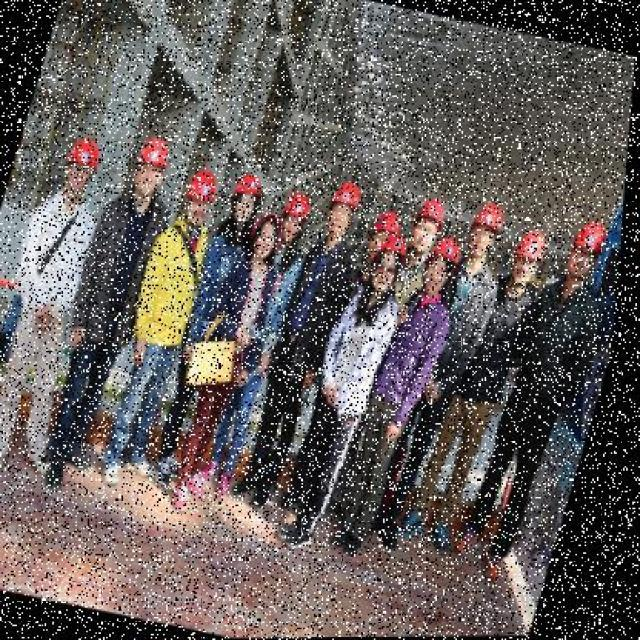helmet: (572, 216, 620, 261), (182, 161, 226, 207), (132, 131, 176, 175), (416, 188, 462, 230), (428, 234, 474, 276), (470, 199, 520, 237), (63, 134, 107, 172), (514, 231, 558, 267), (331, 171, 373, 208), (372, 211, 412, 245), (288, 183, 322, 220), (236, 169, 270, 199), (380, 229, 414, 257)
